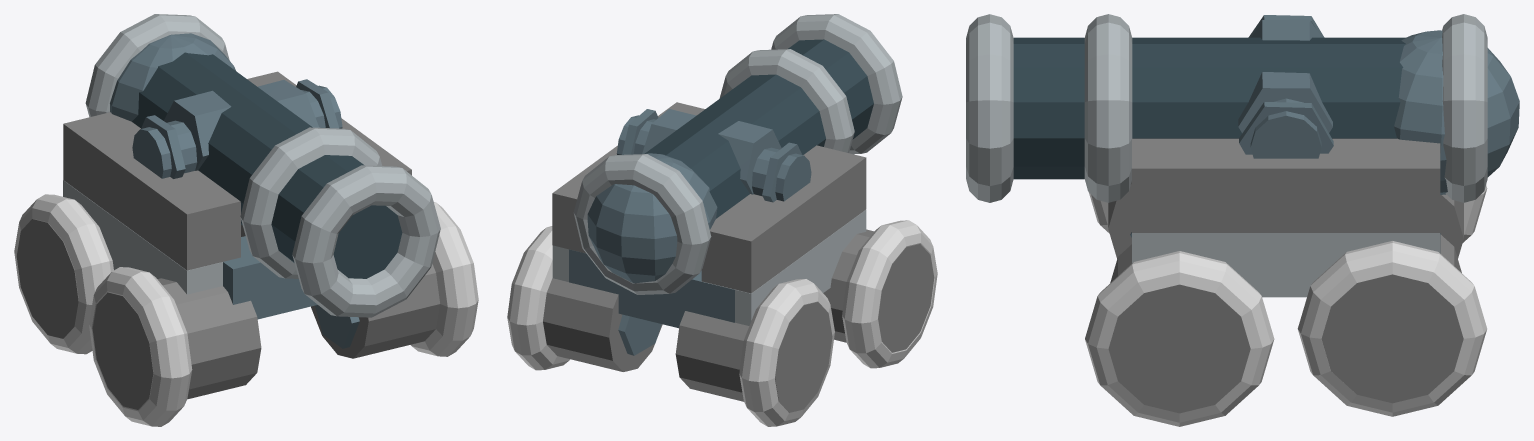
The model's file is cannon2.gltf.
3 views of the same model, side by side, from view 1: azimuth 30°, elevation 25°; view 2: azimuth 150°, elevation 25°; view 3: azimuth 270°, elevation 25° (orthographic). The views are drawn at different scales.
Visible parts, largest first — view 1: node_MeshObject1270210560-PolyPaper21; view 2: node_MeshObject1270210560-PolyPaper21; view 3: node_MeshObject1270210560-PolyPaper21.
Boxes of the visible parts, x1,y1,x2,y2 form: node_MeshObject1270210560-PolyPaper21: [14, 14, 478, 426]; node_MeshObject1270210560-PolyPaper21: [507, 14, 937, 426]; node_MeshObject1270210560-PolyPaper21: [966, 14, 1519, 426].
Bounding box in the file's own units: 2.92 × 2.44 × 3.79.
